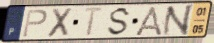A: (132, 5, 164, 37)
N: (160, 3, 196, 38)
P: (21, 9, 49, 39)
S: (105, 6, 133, 38)
T: (82, 6, 107, 38)
X: (45, 7, 75, 39)
